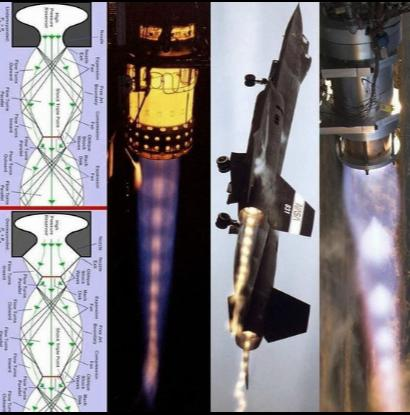Rafale: (211, 2, 314, 391)
